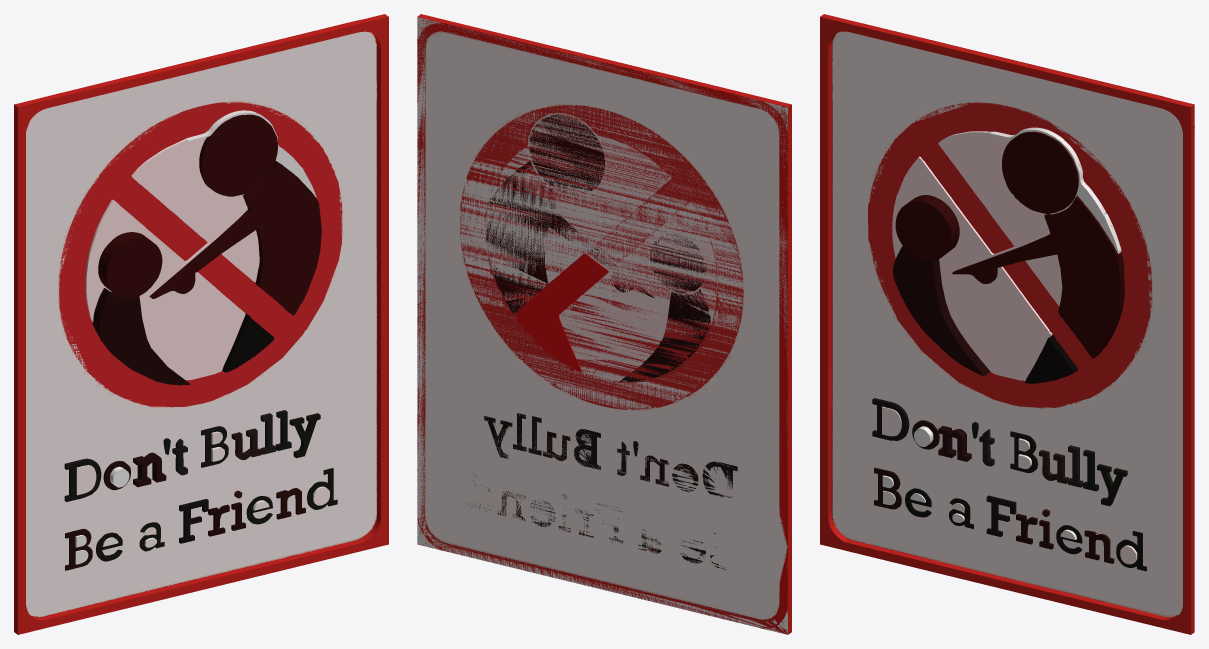
File: sign-compressed.glb
The picture shows the model from 3 angles, left to right: view 1: azimuth 30°, elevation 25°; view 2: azimuth 150°, elevation 25°; view 3: azimuth 330°, elevation 25°; orthographic projection.
Parts seen in each view (by area): view 1: Curve.018; view 2: Curve.018; view 3: Curve.018.
Boxes of the visible parts, bbox=[...] form: Curve.018: bbox=[14, 14, 388, 634]; Curve.018: bbox=[417, 14, 791, 634]; Curve.018: bbox=[820, 14, 1194, 634].
Bounding box in the file's own units: 2.21 × 3 × 0.1098.
1 material, 1 textured.
